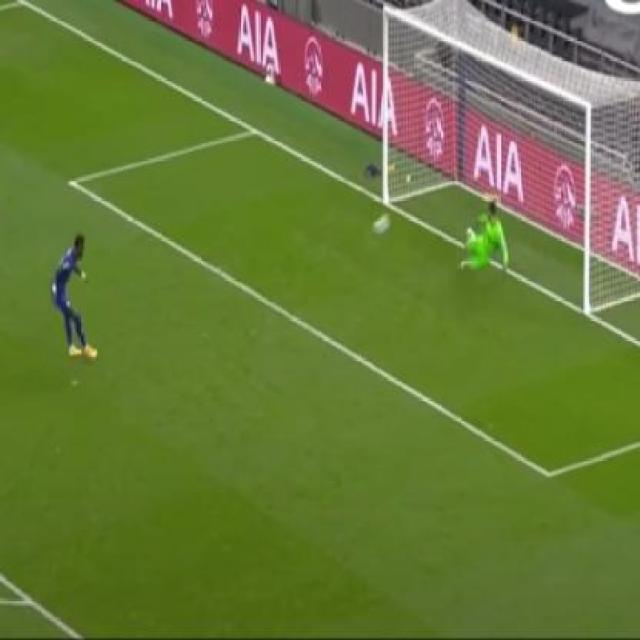ball: (368, 214, 394, 238)
cage: (384, 9, 590, 317)
gardien: (447, 196, 521, 277)
joueur: (48, 231, 97, 360)
